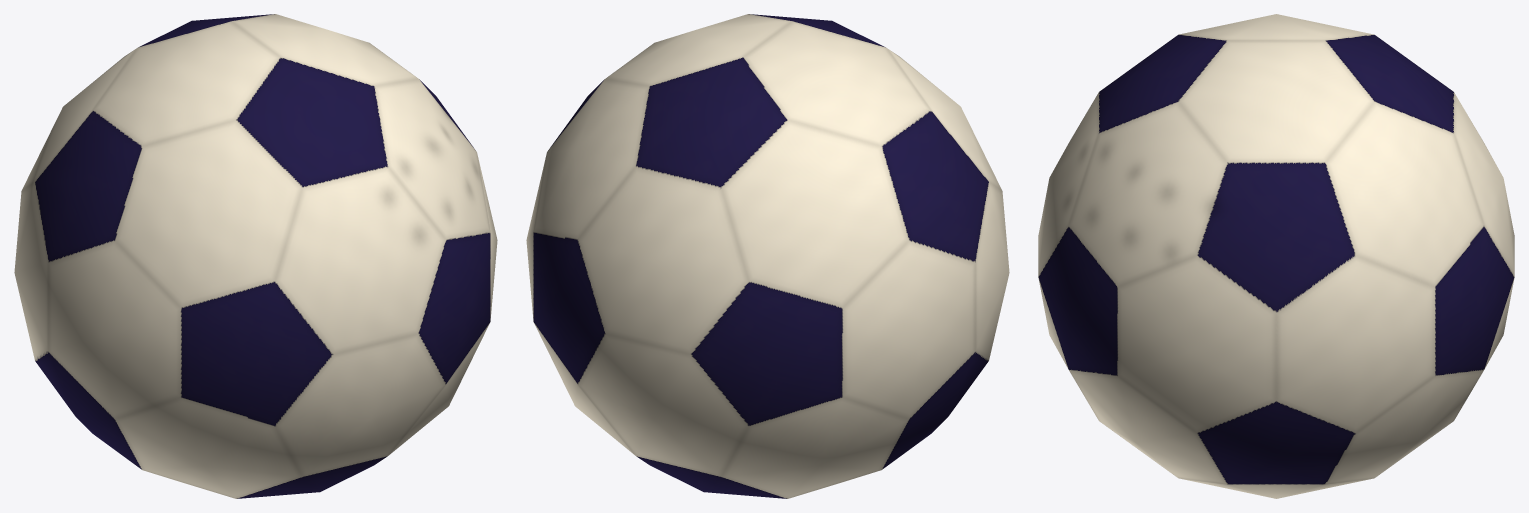
Rendered from ball.glb.
The picture shows the model from 3 angles, left to right: view 1: azimuth 30°, elevation 25°; view 2: azimuth 150°, elevation 25°; view 3: azimuth 270°, elevation 25°; orthographic projection.
Parts seen in each view (by area): view 1: ball; view 2: ball; view 3: ball.
Part boxes in pixels (x1,y1,x2,y2): ball: (14,14,497,498); ball: (526,14,1009,498); ball: (1038,14,1514,498).
Bounding box in the file's own units: 0.3918 × 0.3918 × 0.3918.
Materials: 1 (1 with a texture image).
